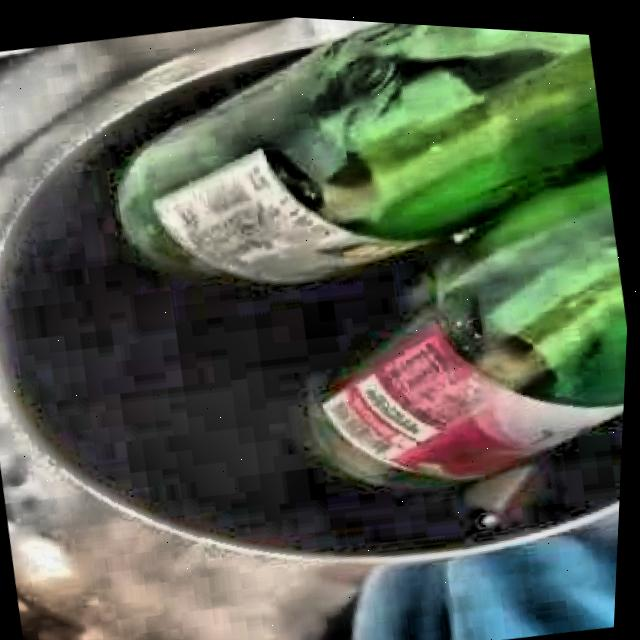glass: (119, 18, 630, 477)
